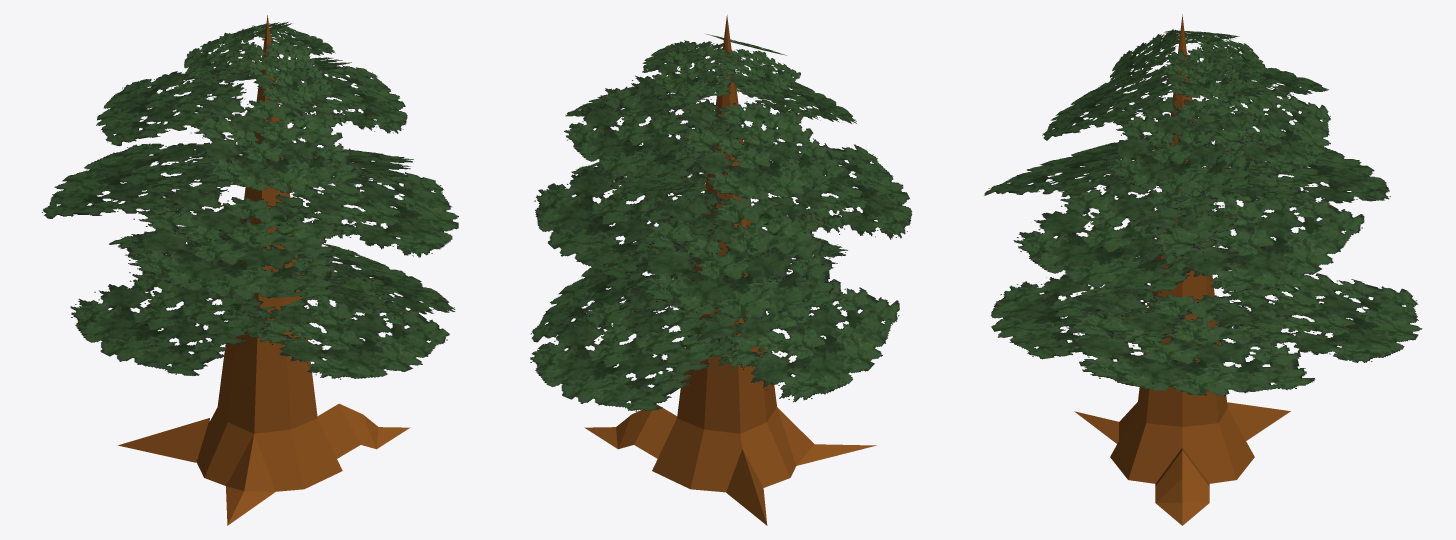
Rendered from yew tree.glb.
3 renders of one model, left to right at view 1: azimuth 30°, elevation 25°; view 2: azimuth 150°, elevation 25°; view 3: azimuth 270°, elevation 25°, orthographic.
Visible parts, largest first — view 1: yewtree; view 2: yewtree; view 3: yewtree.
Part boxes in pixels (x1,y1,x2,y2): yewtree: (42,15,458,525); yewtree: (530,15,912,525); yewtree: (984,14,1422,525).
Size of the model in its own units: 1.82 by 2.11 by 2.07.
2 materials, 1 textured.
